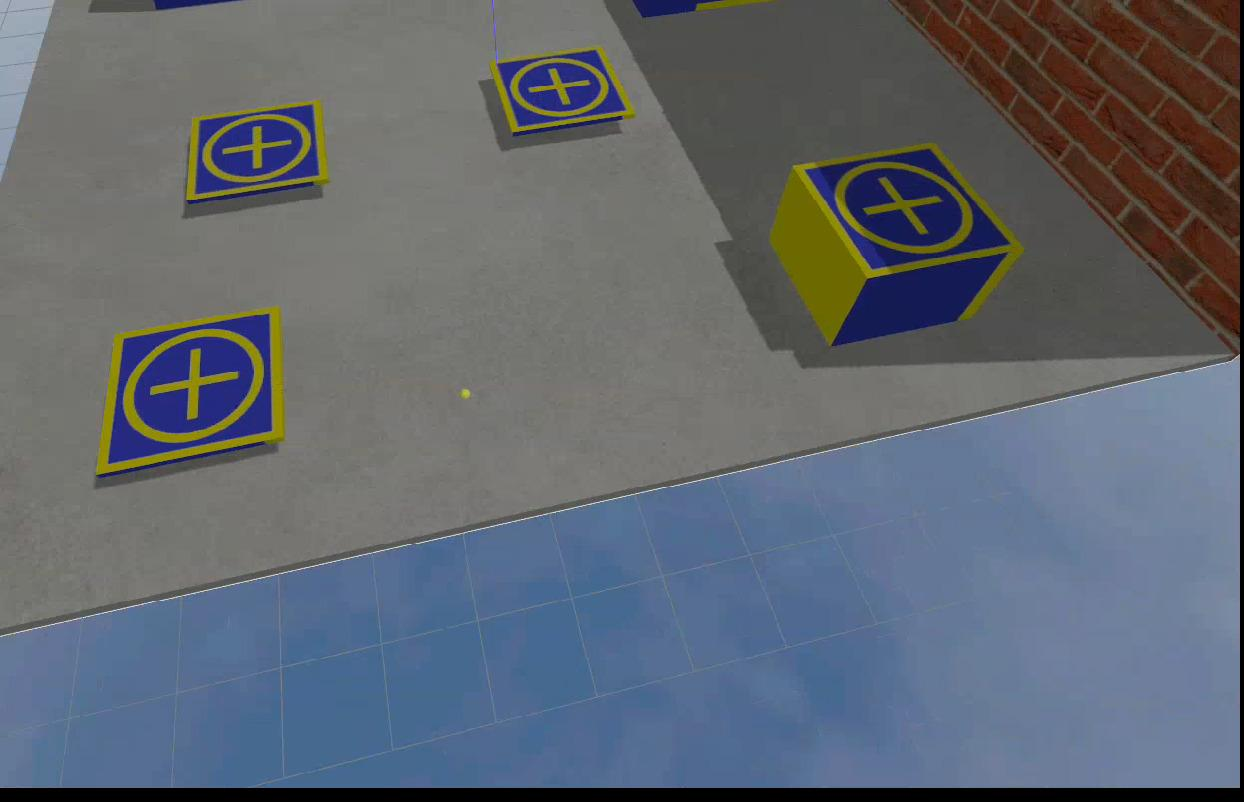small_base: (96, 307, 287, 483), (795, 147, 1026, 280), (187, 104, 331, 206), (490, 44, 636, 138)
